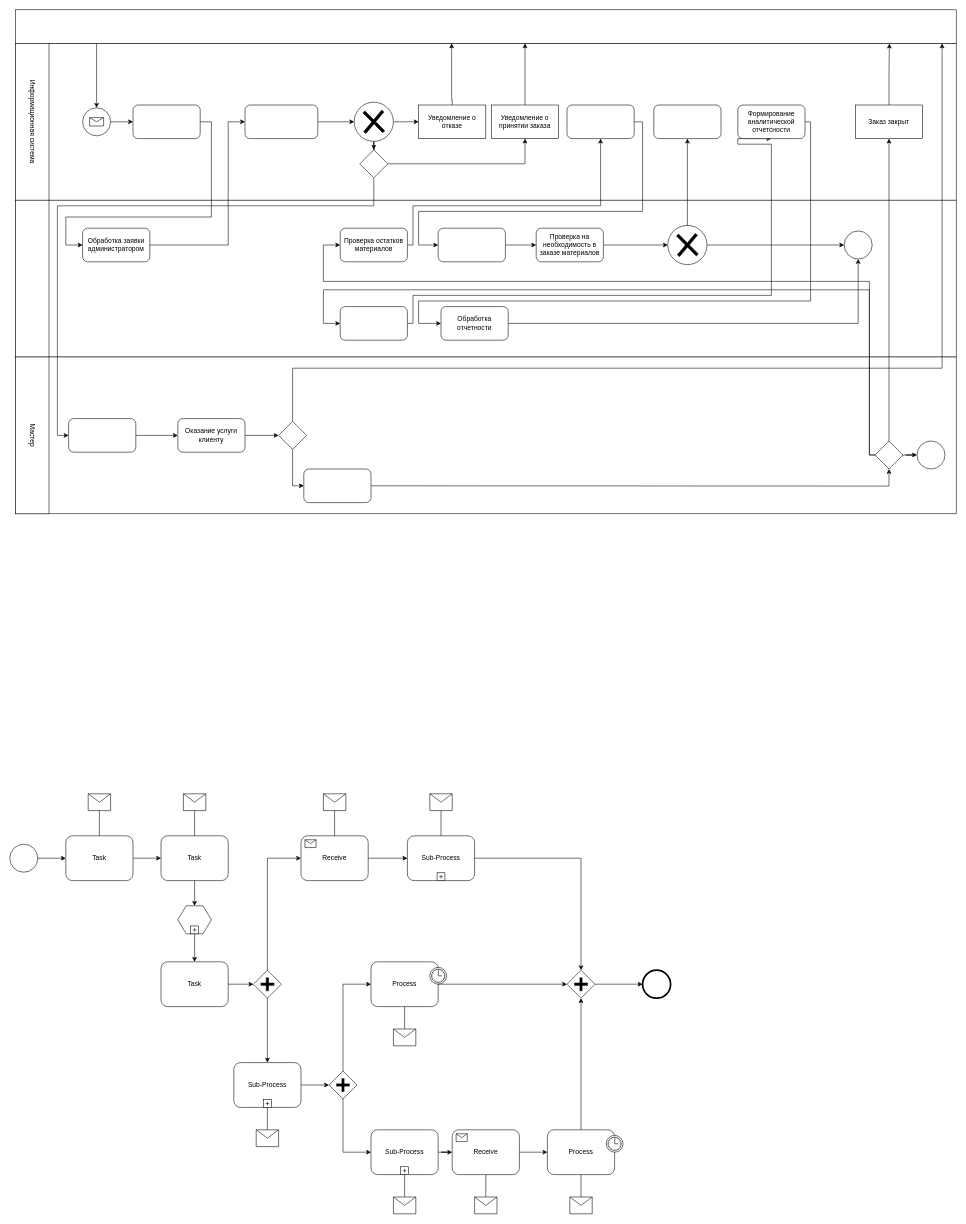
Image size: 966x1224. Some labels were removed from this diagram. The shapes that lost their labels are listed below. From the top down, each one's centre as x and y in pixels, then its label:
the point at 485,26: Клиент
the point at 166,121: Обработка заявки
the point at 281,121: Проверка одобрения заявки
the point at 600,121: Формирование отчетности
the point at 687,121: Оформление заказа
the point at 471,245: Обработка результатов
the point at 32,278: Администратор
the point at 373,323: Запрос на формирование аналитической отчетности
the point at 102,435: Получение информации о заказе
the point at 337,485: Закрытие заказа
